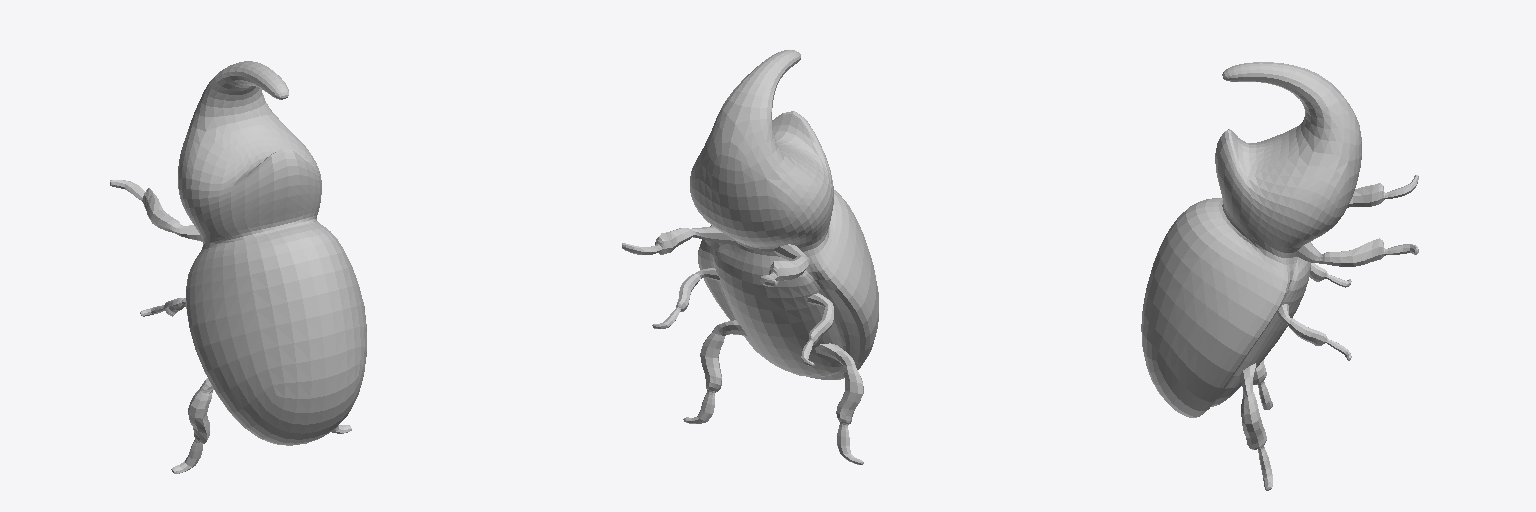
Rendered from bettle_rock.obj.
3 renders of one model, left to right at view 1: azimuth 30°, elevation 25°; view 2: azimuth 150°, elevation 25°; view 3: azimuth 270°, elevation 25°, orthographic.
Parts seen in each view (by area): view 1: Beetle.001_Cube.001; view 2: Beetle.001_Cube.001; view 3: Beetle.001_Cube.001.
Part boxes in pixels (bbox=[...]): Beetle.001_Cube.001: bbox=[110, 61, 366, 473]; Beetle.001_Cube.001: bbox=[622, 50, 878, 464]; Beetle.001_Cube.001: bbox=[1141, 62, 1418, 490].
Bounding box in the file's own units: 24.84 × 51.15 × 33.4.